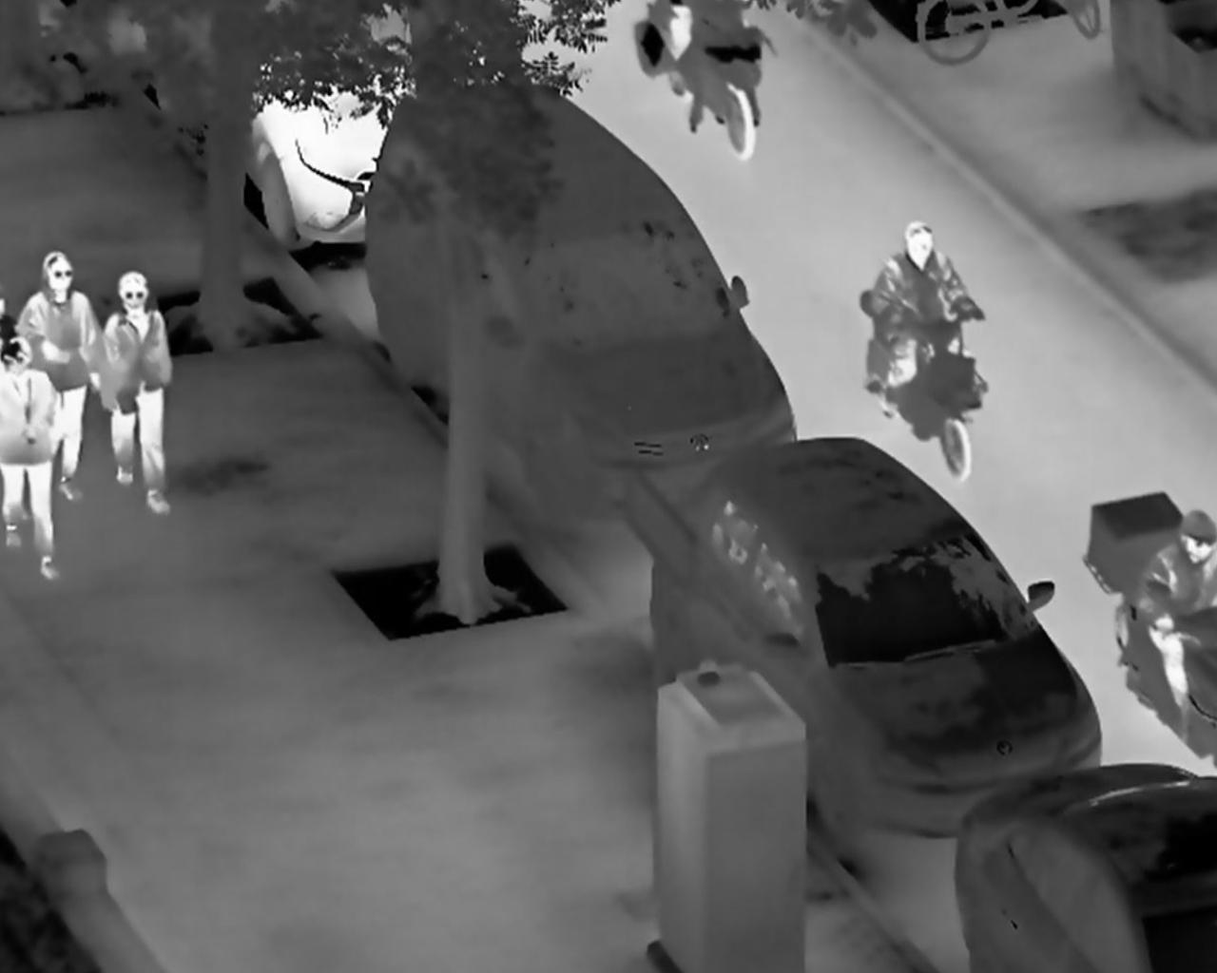person: (870, 220, 988, 419), (13, 249, 99, 505), (101, 268, 177, 517), (1135, 508, 1217, 717)
